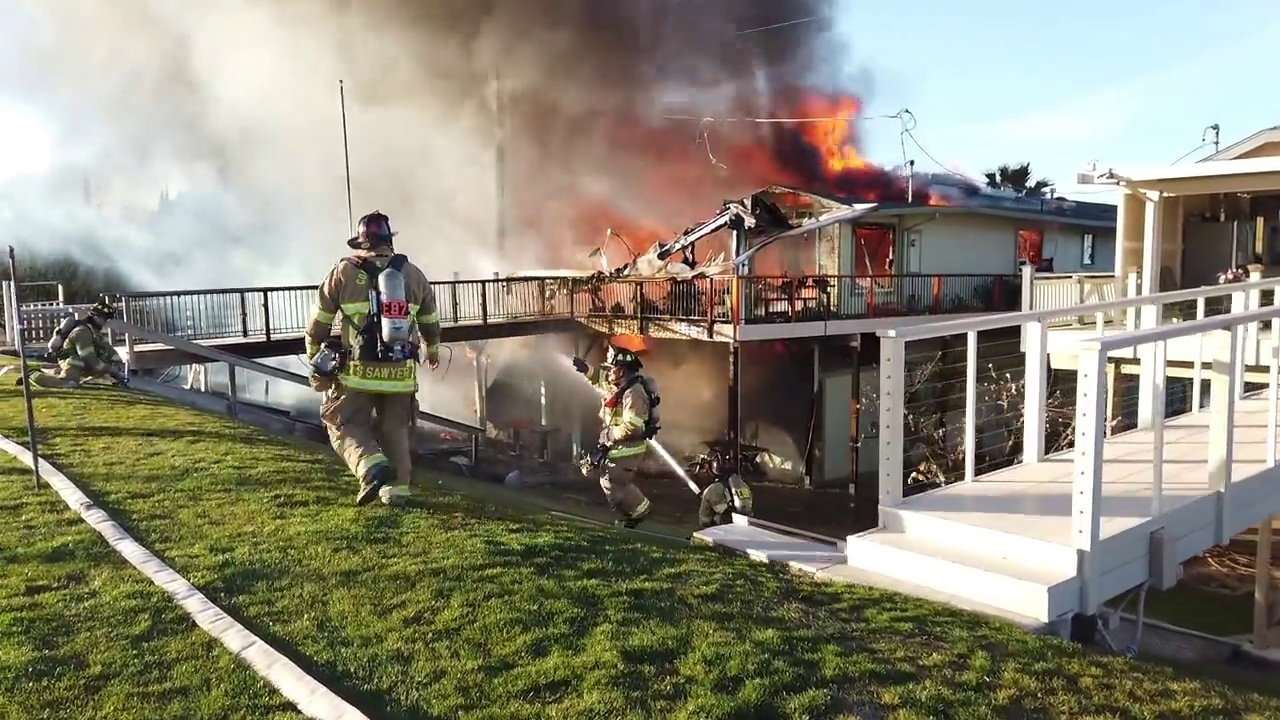fire: (809, 83, 867, 172), (747, 232, 816, 274), (855, 227, 894, 274), (926, 187, 945, 202), (933, 278, 939, 309)
smoke: (1, 1, 344, 278), (428, 1, 860, 182), (401, 186, 593, 278), (347, 6, 427, 183), (482, 341, 573, 437), (654, 343, 727, 452), (616, 183, 737, 245), (742, 346, 811, 443), (423, 368, 483, 428), (240, 368, 307, 420), (204, 363, 229, 395)
